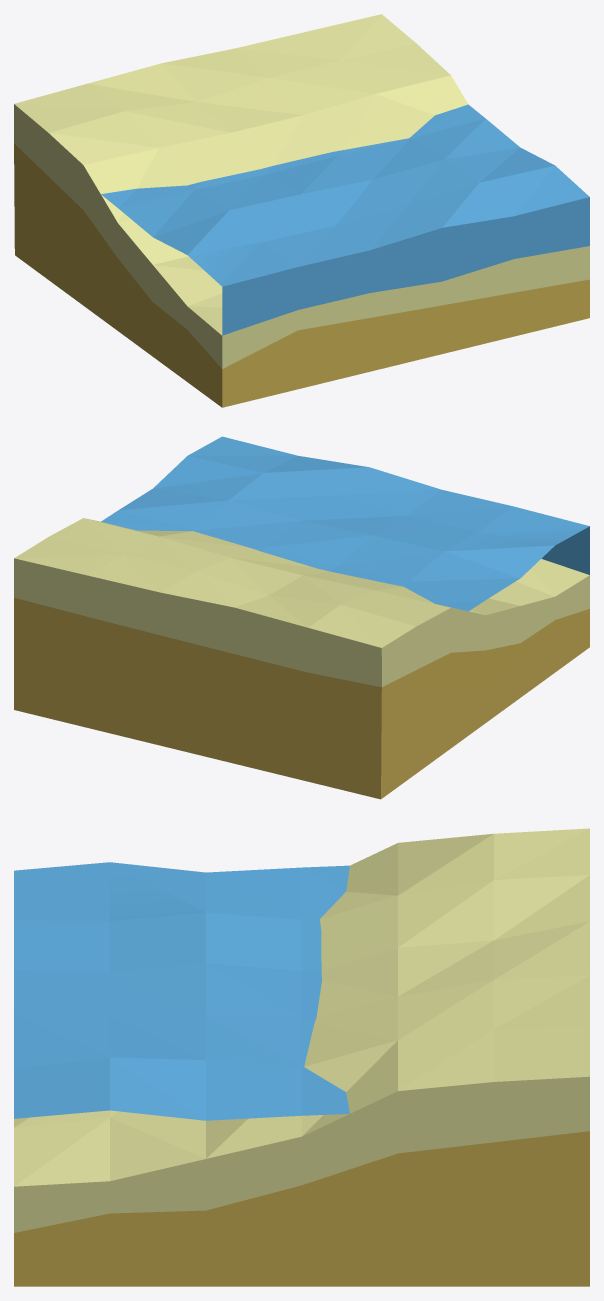
File: beach04.fbx
3 renders of one model, top to bottom at view 1: azimuth 30°, elevation 25°; view 2: azimuth 150°, elevation 25°; view 3: azimuth 270°, elevation 25°, orthographic. The views are drawn at different scales.
Visible parts, largest first — view 1: world-beach4; view 2: world-beach4; view 3: world-beach4.
Boxes of the visible parts, bbox=[...] form: world-beach4: bbox=[14, 14, 589, 407]; world-beach4: bbox=[14, 436, 589, 799]; world-beach4: bbox=[14, 828, 589, 1286].
Bounding box in the file's own units: 20.01 × 8.12 × 19.61.
